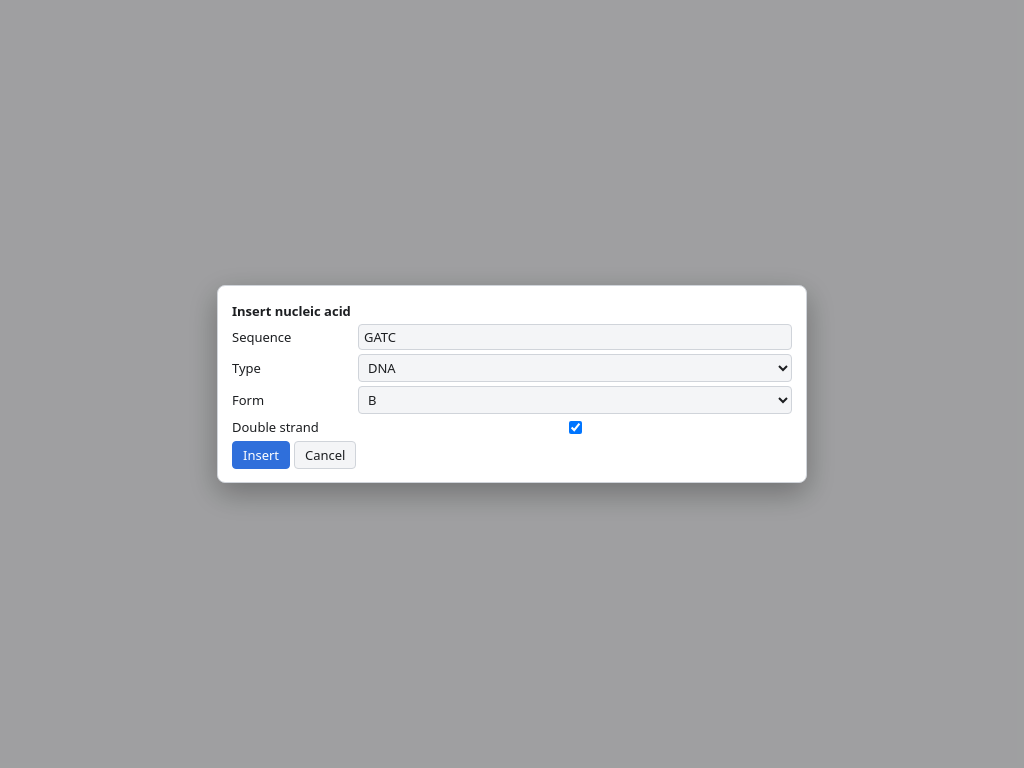
Test: RNA cannot be double stranded
Expected: the checkbox labelled "Double strand" is checked, left=362, top=420, right=789, bottom=434
Step 1. Select "RNA" in the dropdown labelled "Type" → (575, 368), box left=358, top=354, right=792, bottom=382
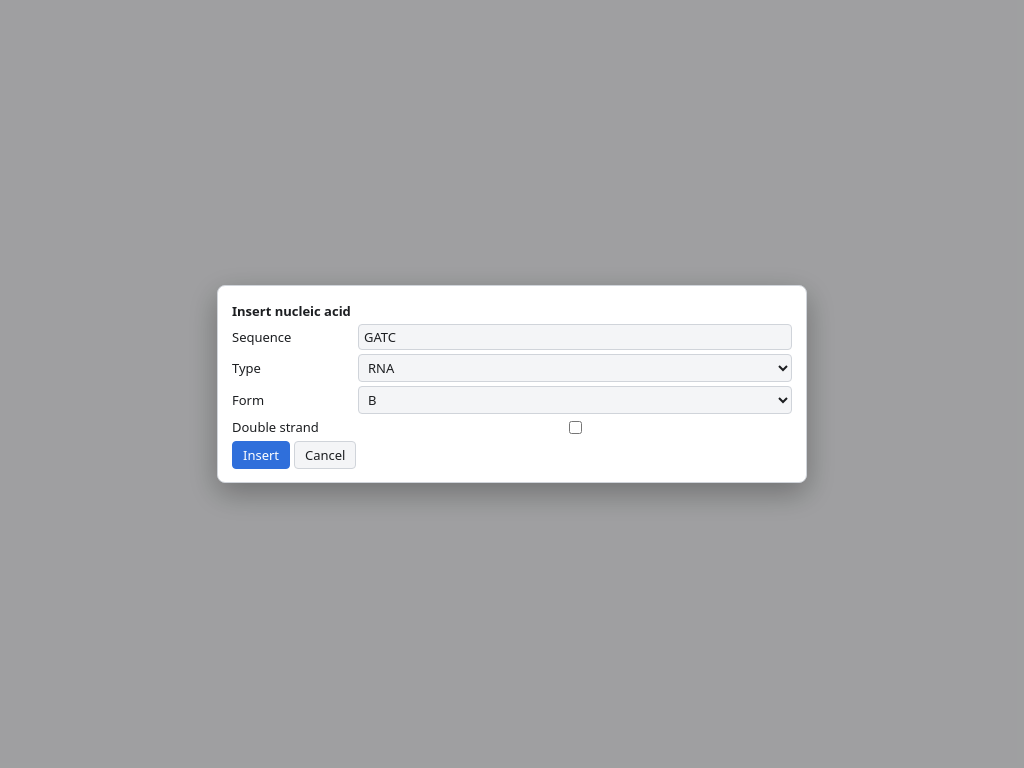
Expected: the checkbox labelled "Double strand" is not checked, left=362, top=420, right=789, bottom=434
